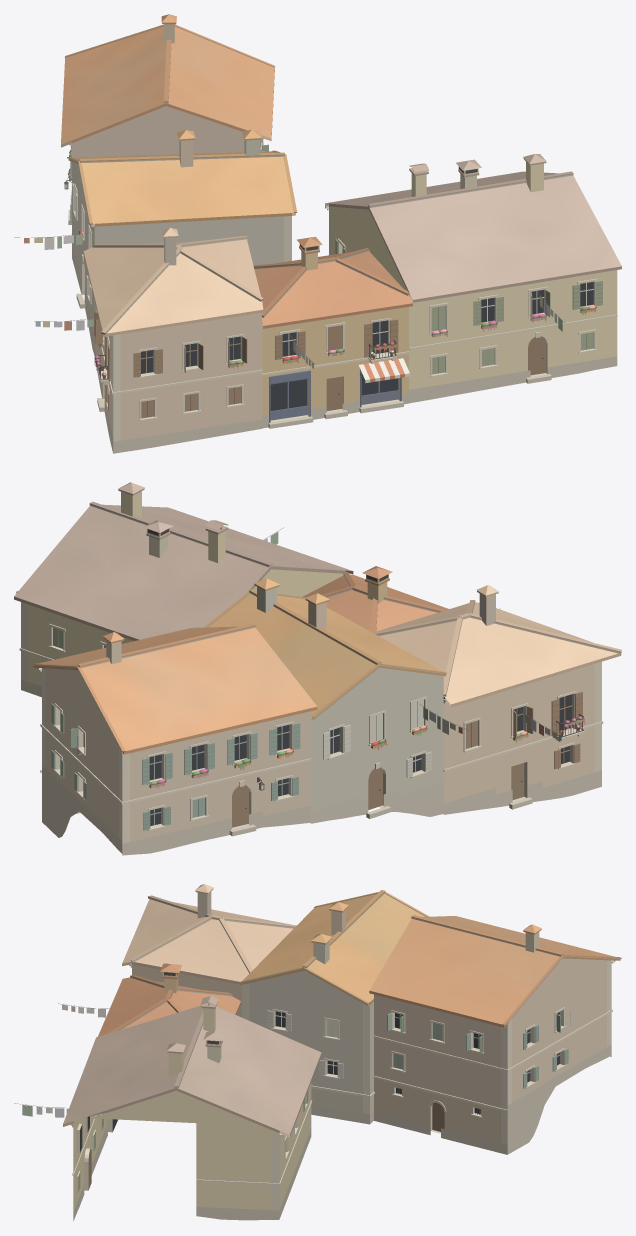
The model's file is SM_BM_BT_blk_16.glb.
The picture shows the model from 3 angles, top to bottom: view 1: azimuth 30°, elevation 25°; view 2: azimuth 150°, elevation 25°; view 3: azimuth 270°, elevation 25°; orthographic projection. The views are drawn at different scales.
Visible parts, largest first — view 1: SM_BM_BT_blk_16; view 2: SM_BM_BT_blk_16; view 3: SM_BM_BT_blk_16.
Boxes of the visible parts, x1,y1,x2,y2 form: SM_BM_BT_blk_16: [14, 14, 621, 453]; SM_BM_BT_blk_16: [14, 482, 621, 855]; SM_BM_BT_blk_16: [14, 884, 621, 1221].
Bounding box in the file's own units: 36.57 × 15.75 × 40.54.
